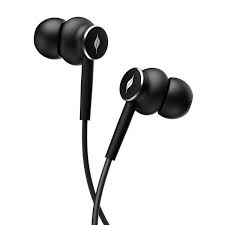earphone: (117, 42, 200, 184), (28, 12, 110, 123)
